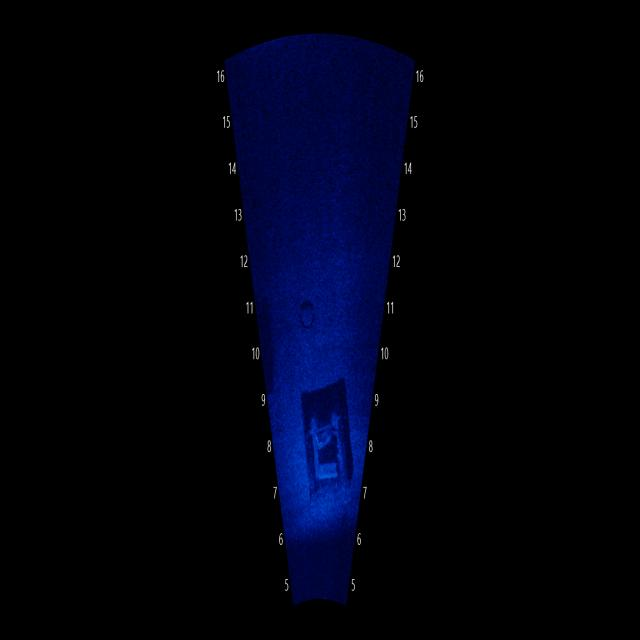square: (300, 378, 357, 507), (258, 286, 280, 406)
